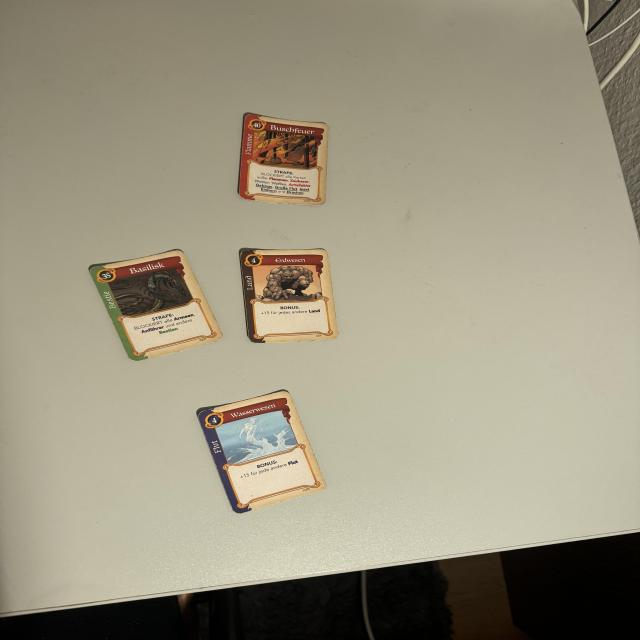Basilisk: (87, 247, 223, 366)
Earth Elemental: (238, 245, 343, 344)
Water Elemental: (190, 385, 331, 518)
Wildfire: (233, 108, 331, 206)
